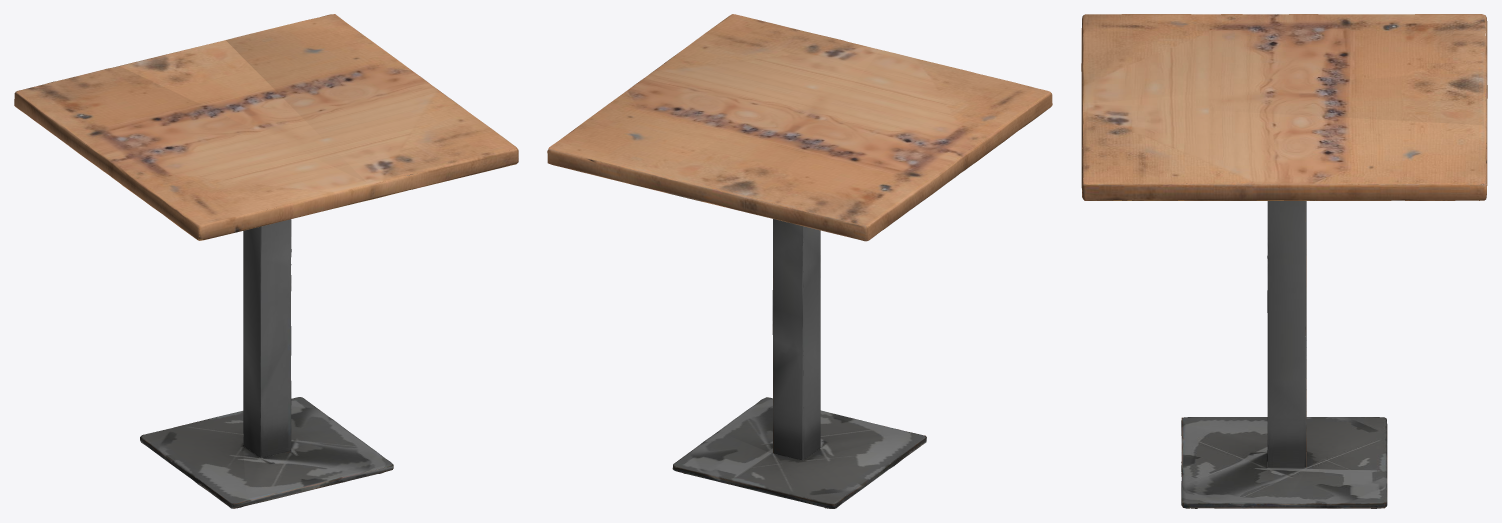
The model's file is masa.glb.
3 renders of one model, left to right at view 1: azimuth 30°, elevation 25°; view 2: azimuth 150°, elevation 25°; view 3: azimuth 270°, elevation 25°, orthographic. The views are drawn at different scales.
Parts seen in each view (by area): view 1: Mesh1.0; view 2: Mesh1.0; view 3: Mesh1.0.
Part boxes in pixels (x1,y1,x2,y2): Mesh1.0: [14, 14, 518, 508]; Mesh1.0: [547, 14, 1052, 508]; Mesh1.0: [1081, 14, 1487, 508].
Bounding box in the file's own units: 0.7745 × 0.78 × 0.7746.
Materials: 1 (1 with a texture image).
